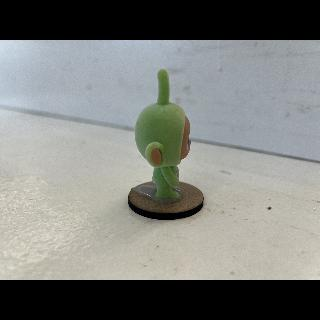teletubby: (135, 69, 191, 199)
